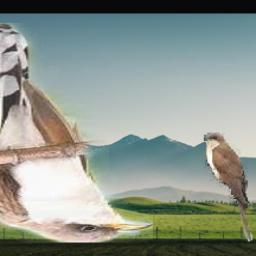Cuckoo: (0, 23, 153, 243), (203, 134, 251, 243)
